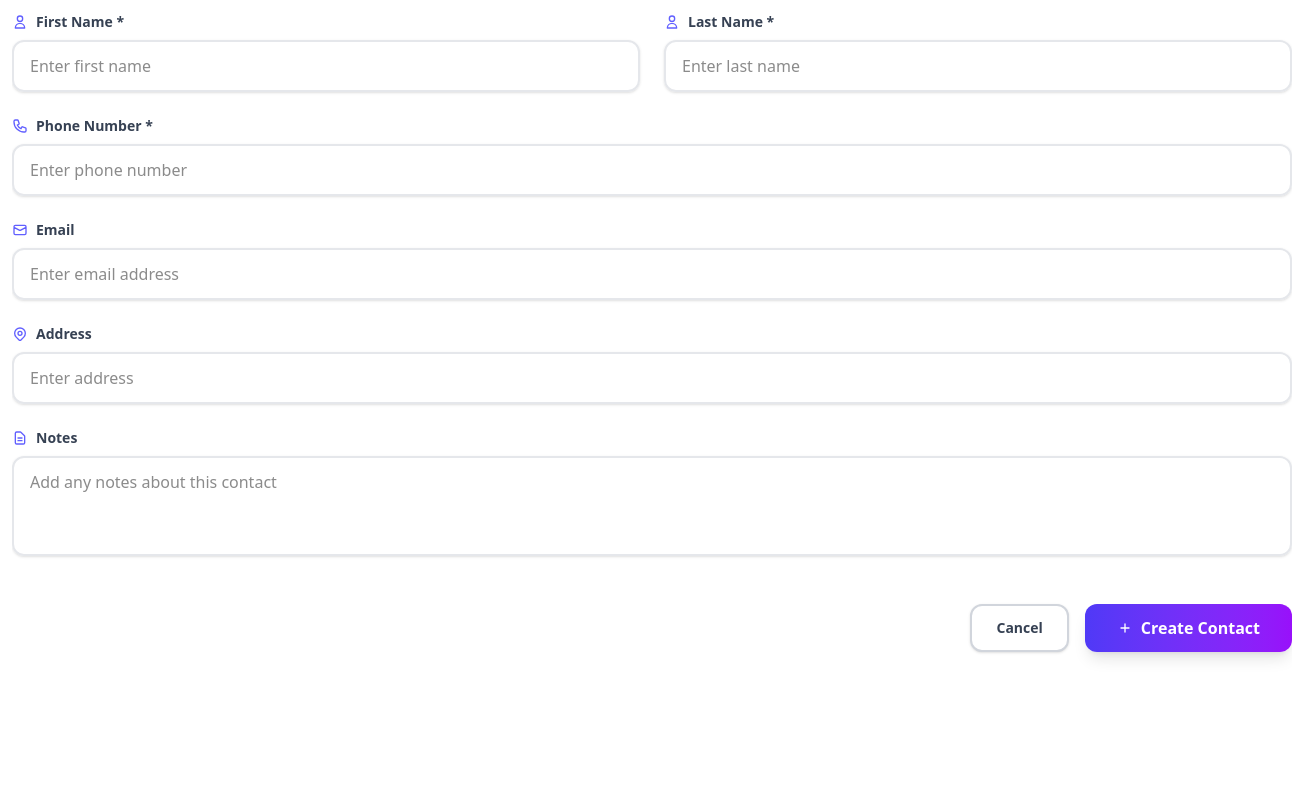
Test: ContactForm › form submission › should show loading state during submission
Type "John" into the field labelled "First Name *" at (326, 66), box [12,40,640,92]
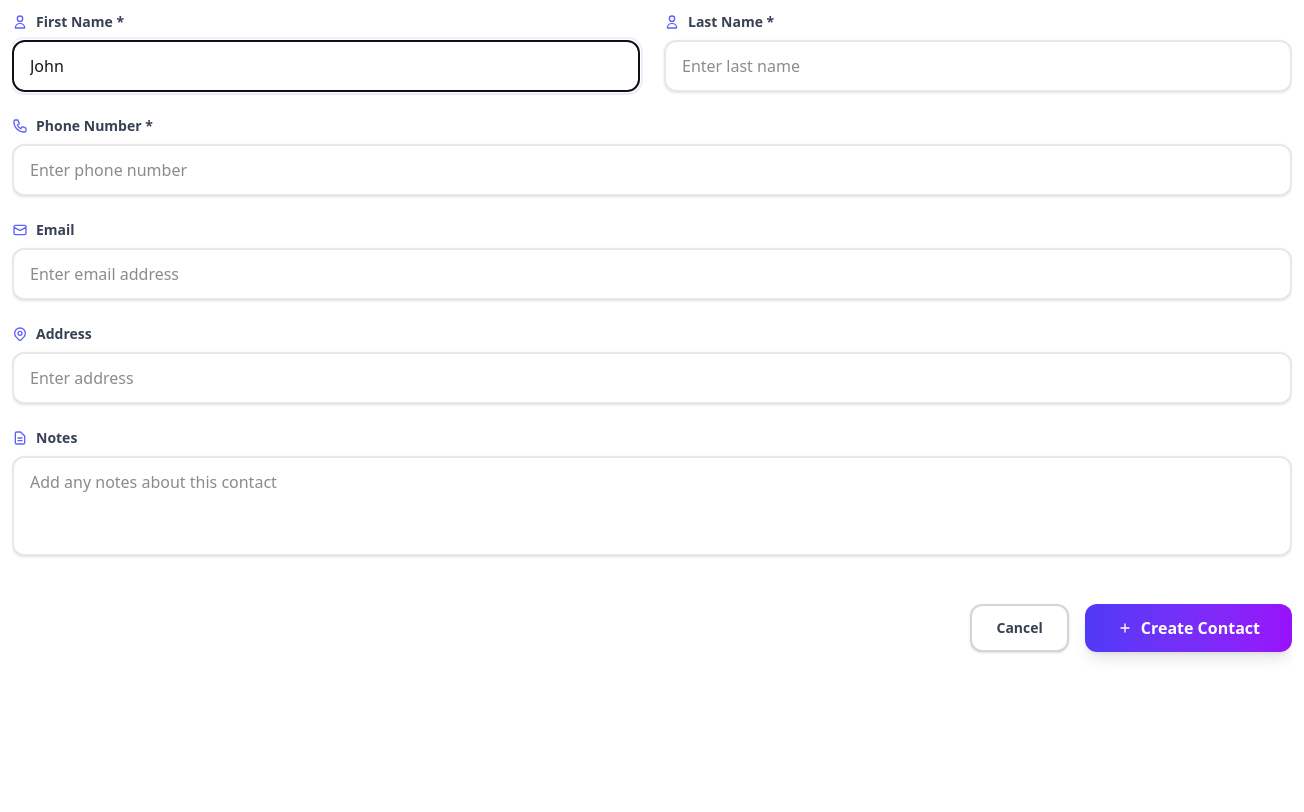
Type "Doe" into the field labelled "Last Name *" at (978, 66), box [664,40,1292,92]
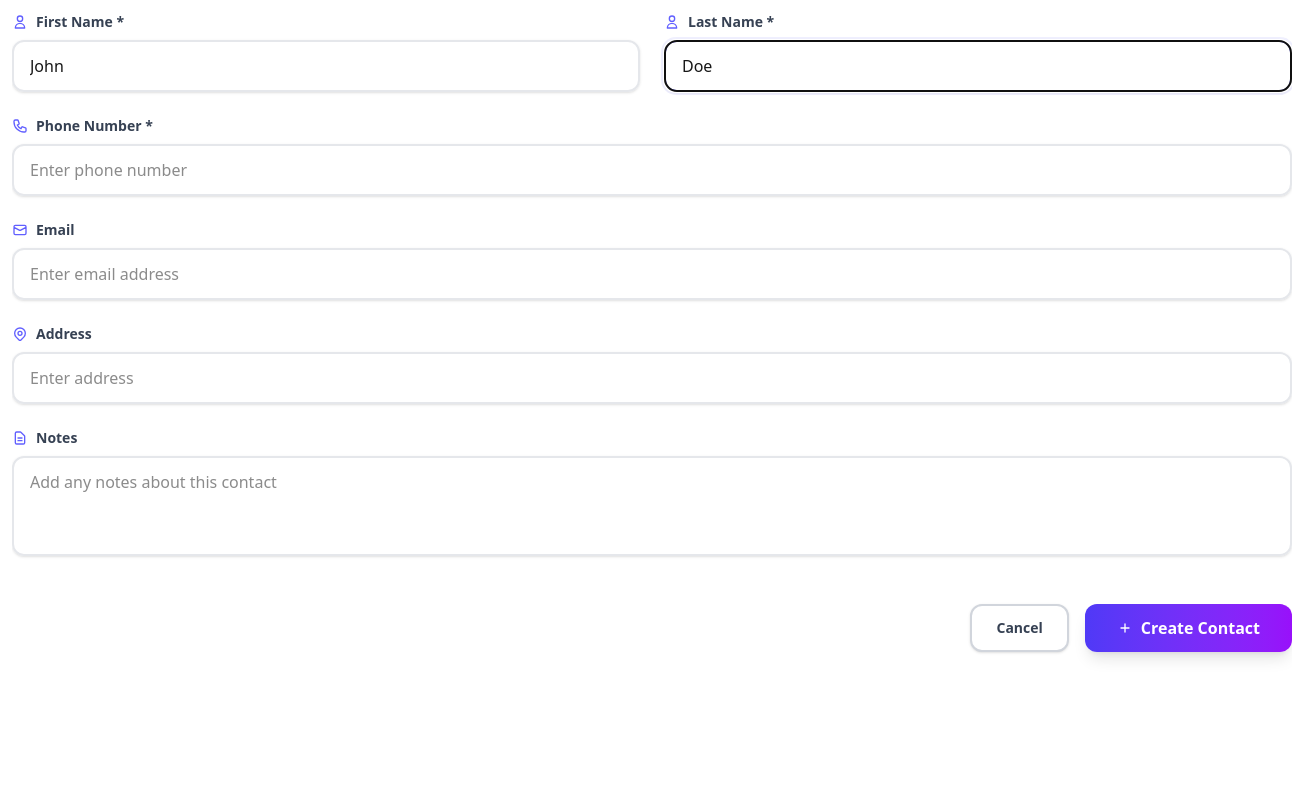
Type "1234567890" into the field labelled "Phone Number *" at (652, 170), box [12,144,1292,196]
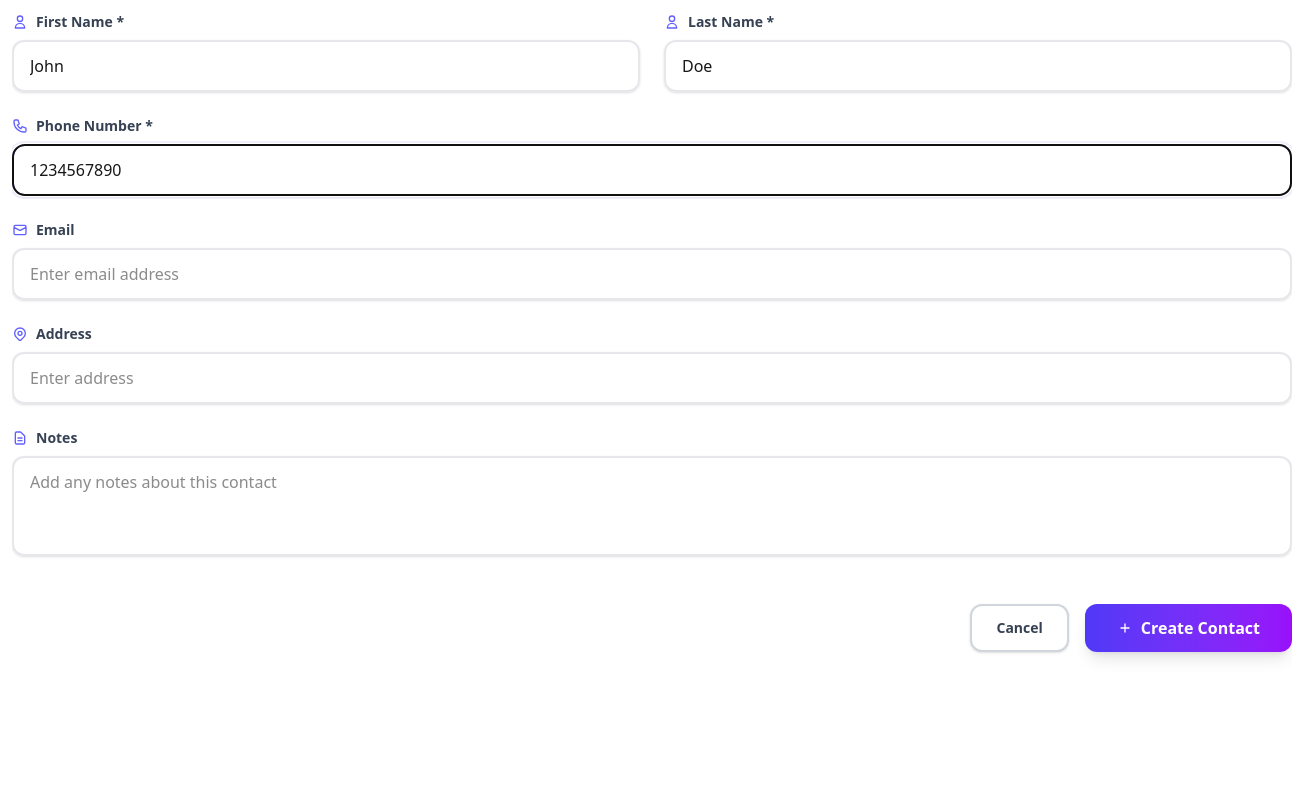
Click the button "Create Contact" at (1188, 628), box [1085,604,1292,652]
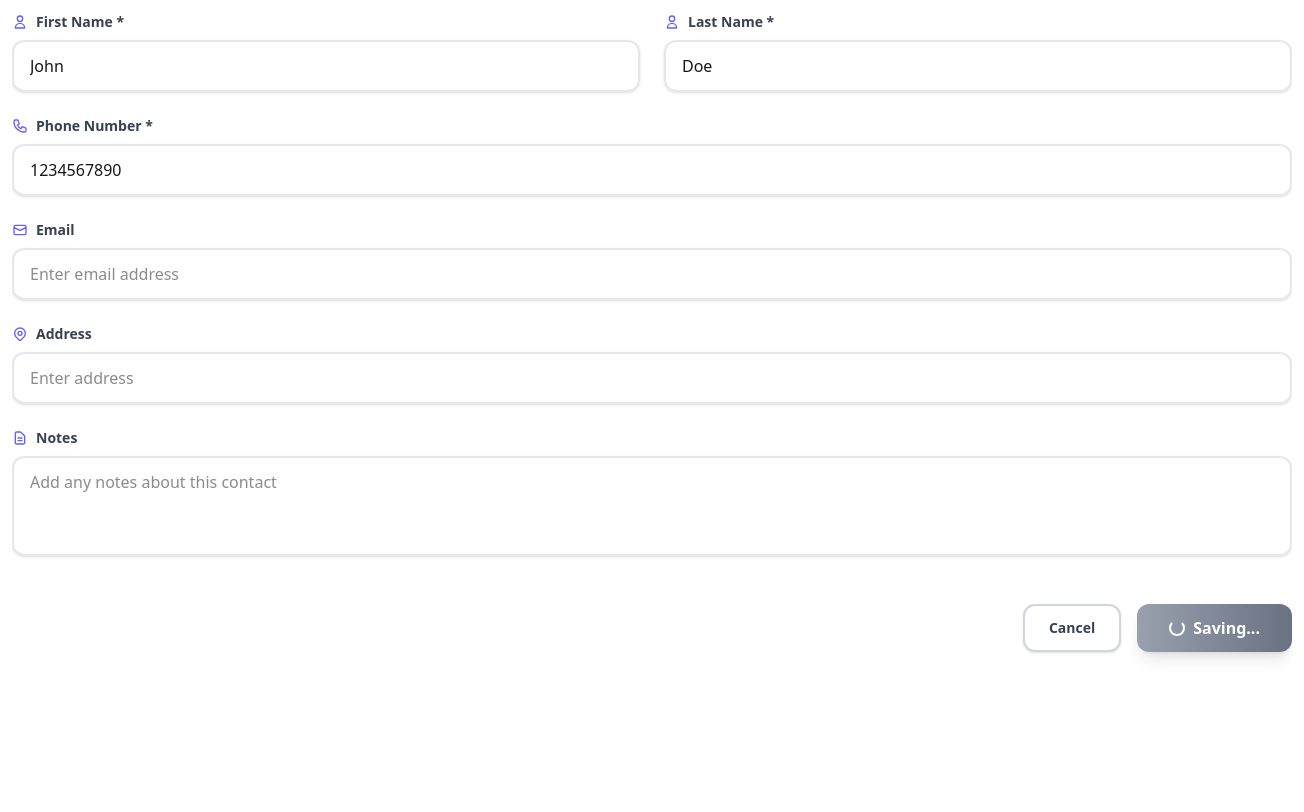
expect the button "Saving..." is disabled: met, box [1137,604,1292,652]
